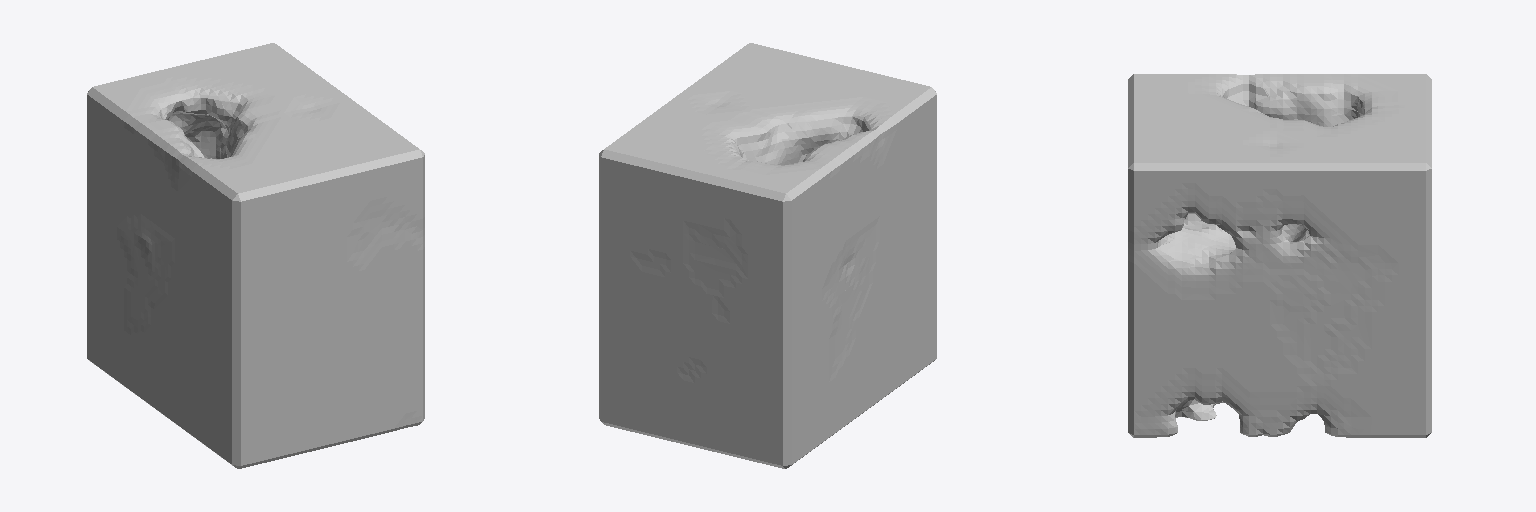
The picture shows the model from 3 angles: view 1: azimuth 30°, elevation 25°; view 2: azimuth 150°, elevation 25°; view 3: azimuth 270°, elevation 25°; orthographic projection.
Visible parts, largest first — view 1: Liquid_Domain; view 2: Liquid_Domain; view 3: Liquid_Domain.
Part boxes in pixels (x1,y1,x2,y2): Liquid_Domain: (87,43,424,468); Liquid_Domain: (599,43,936,468); Liquid_Domain: (1128,74,1431,437).
Size of the model in its own units: 79.09 by 108 by 108.